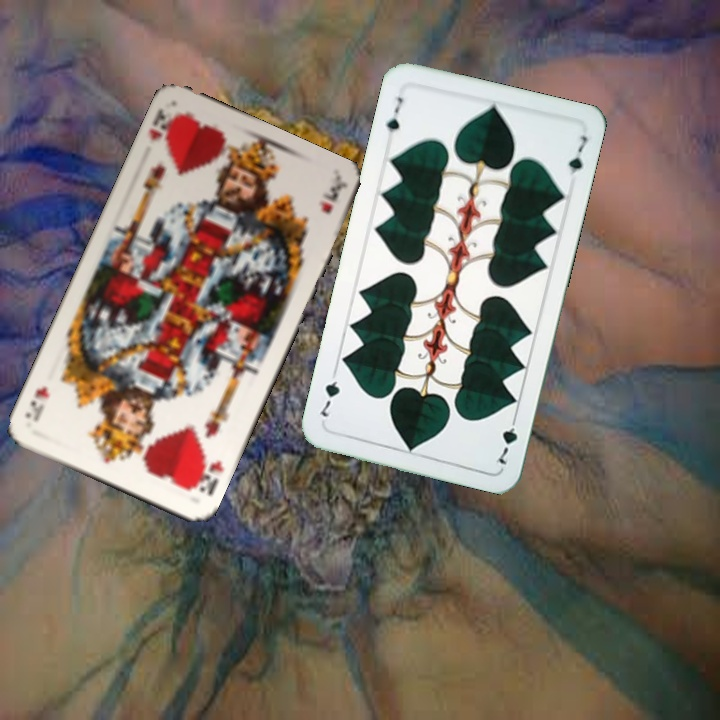G7: (493, 410, 520, 468), (382, 93, 405, 135)
HK: (186, 449, 226, 499), (145, 104, 182, 152)
